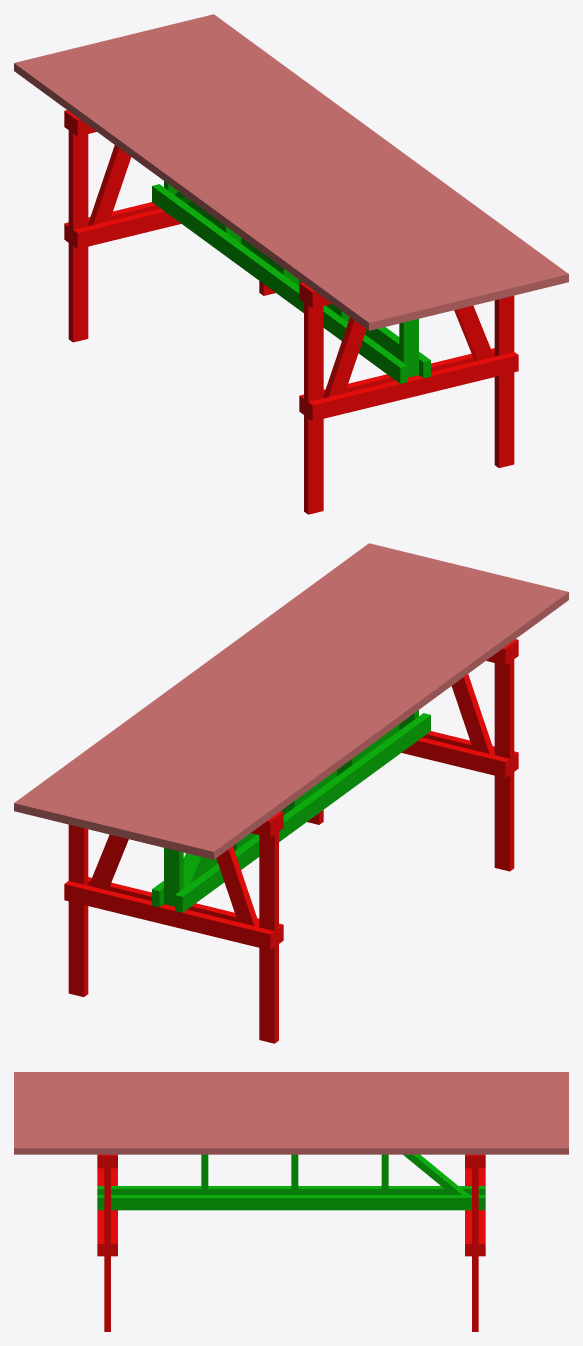
Rendered from result.glb.
3 renders of one model, top to bottom at view 1: azimuth 30°, elevation 25°; view 2: azimuth 150°, elevation 25°; view 3: azimuth 270°, elevation 25°, orthographic. The views are drawn at different scales.
Visible parts, largest first — view 1: 8f120b5a-f9a2-43f8-8b7d-5e371aa95515__Box, 9fdaca5e-407c-4eb3-a409-1f471c80f795__undefined, 4f1c667c-f6a0-4627-bff0-5d3b5f42dd8e__undefined, c62a0de4-39a7-44fe-b908-81d617d3bedd__undefined, 28ee4a3d-c150-4281-99b5-ff1f1e0439e0__undefined, 60b5904a-6647-4e2f-bc2d-0631726d35ae__undefined, bd488927-f666-49eb-b73c-2cdc094b9c27__undefined, 23a740b9-bbf8-4d6e-b039-9ae7f1b5a909__undefined, f3dbb77b-8312-4c1d-bff9-16775a4979df__undefined, b9d5aa15-2974-4691-b75c-6cac990ae6ff__undefined, d9c84791-e65c-49e0-94d9-1fda64fde9dd__undefined, 1f2c1494-39af-4727-8d16-2155dbb9b5cf__undefined (+13 smaller); view 2: 8f120b5a-f9a2-43f8-8b7d-5e371aa95515__Box, 9fdaca5e-407c-4eb3-a409-1f471c80f795__undefined, 4f1c667c-f6a0-4627-bff0-5d3b5f42dd8e__undefined, c62a0de4-39a7-44fe-b908-81d617d3bedd__undefined, 28ee4a3d-c150-4281-99b5-ff1f1e0439e0__undefined, 60b5904a-6647-4e2f-bc2d-0631726d35ae__undefined, bd488927-f666-49eb-b73c-2cdc094b9c27__undefined, 23a740b9-bbf8-4d6e-b039-9ae7f1b5a909__undefined, f3dbb77b-8312-4c1d-bff9-16775a4979df__undefined, b9d5aa15-2974-4691-b75c-6cac990ae6ff__undefined, d9c84791-e65c-49e0-94d9-1fda64fde9dd__undefined, 1f2c1494-39af-4727-8d16-2155dbb9b5cf__undefined (+13 smaller); view 3: b9d5aa15-2974-4691-b75c-6cac990ae6ff__undefined, 534da32e-5892-4000-bd9c-4815f4929568__strutH, 60b5904a-6647-4e2f-bc2d-0631726d35ae__undefined, 4f1c667c-f6a0-4627-bff0-5d3b5f42dd8e__undefined, d9c84791-e65c-49e0-94d9-1fda64fde9dd__undefined, c62a0de4-39a7-44fe-b908-81d617d3bedd__undefined, 415b5ace-8a6b-46c7-b1d0-3a365fc94b96__undefined, f3dbb77b-8312-4c1d-bff9-16775a4979df__undefined, 8f120b5a-f9a2-43f8-8b7d-5e371aa95515__Box, 9fdaca5e-407c-4eb3-a409-1f471c80f795__undefined, 1f2c1494-39af-4727-8d16-2155dbb9b5cf__undefined, bd488927-f666-49eb-b73c-2cdc094b9c27__undefined (+10 smaller).
Boxes of the visible parts, bbox=[...] form: 8f120b5a-f9a2-43f8-8b7d-5e371aa95515__Box: bbox=[14, 59, 384, 330]; 9fdaca5e-407c-4eb3-a409-1f471c80f795__undefined: bbox=[29, 55, 399, 326]; 4f1c667c-f6a0-4627-bff0-5d3b5f42dd8e__undefined: bbox=[76, 44, 445, 315]; c62a0de4-39a7-44fe-b908-81d617d3bedd__undefined: bbox=[106, 37, 476, 308]; 28ee4a3d-c150-4281-99b5-ff1f1e0439e0__undefined: bbox=[152, 25, 522, 296]; 60b5904a-6647-4e2f-bc2d-0631726d35ae__undefined: bbox=[60, 48, 430, 319]; bd488927-f666-49eb-b73c-2cdc094b9c27__undefined: bbox=[122, 33, 491, 304]; 23a740b9-bbf8-4d6e-b039-9ae7f1b5a909__undefined: bbox=[137, 29, 507, 300]; f3dbb77b-8312-4c1d-bff9-16775a4979df__undefined: bbox=[183, 18, 553, 289]; b9d5aa15-2974-4691-b75c-6cac990ae6ff__undefined: bbox=[199, 14, 568, 285]; d9c84791-e65c-49e0-94d9-1fda64fde9dd__undefined: bbox=[91, 40, 461, 311]; 1f2c1494-39af-4727-8d16-2155dbb9b5cf__undefined: bbox=[45, 52, 415, 323]; 8f120b5a-f9a2-43f8-8b7d-5e371aa95515__Box: bbox=[198, 588, 568, 859]; 9fdaca5e-407c-4eb3-a409-1f471c80f795__undefined: bbox=[183, 584, 553, 855]; 4f1c667c-f6a0-4627-bff0-5d3b5f42dd8e__undefined: bbox=[137, 573, 506, 844]; c62a0de4-39a7-44fe-b908-81d617d3bedd__undefined: bbox=[106, 566, 476, 837]; 28ee4a3d-c150-4281-99b5-ff1f1e0439e0__undefined: bbox=[60, 554, 430, 825]; 60b5904a-6647-4e2f-bc2d-0631726d35ae__undefined: bbox=[152, 577, 522, 848]; bd488927-f666-49eb-b73c-2cdc094b9c27__undefined: bbox=[91, 562, 460, 833]; 23a740b9-bbf8-4d6e-b039-9ae7f1b5a909__undefined: bbox=[75, 558, 445, 829]; f3dbb77b-8312-4c1d-bff9-16775a4979df__undefined: bbox=[29, 547, 399, 818]; b9d5aa15-2974-4691-b75c-6cac990ae6ff__undefined: bbox=[14, 543, 383, 814]; d9c84791-e65c-49e0-94d9-1fda64fde9dd__undefined: bbox=[121, 569, 491, 840]; 1f2c1494-39af-4727-8d16-2155dbb9b5cf__undefined: bbox=[167, 581, 537, 852]; b9d5aa15-2974-4691-b75c-6cac990ae6ff__undefined: bbox=[14, 1142, 568, 1154]; 534da32e-5892-4000-bd9c-4815f4929568__strutH: bbox=[97, 1195, 485, 1210]; 60b5904a-6647-4e2f-bc2d-0631726d35ae__undefined: bbox=[14, 1089, 568, 1095]; 4f1c667c-f6a0-4627-bff0-5d3b5f42dd8e__undefined: bbox=[14, 1095, 568, 1101]; d9c84791-e65c-49e0-94d9-1fda64fde9dd__undefined: bbox=[14, 1101, 568, 1107]; c62a0de4-39a7-44fe-b908-81d617d3bedd__undefined: bbox=[14, 1107, 568, 1113]; 415b5ace-8a6b-46c7-b1d0-3a365fc94b96__undefined: bbox=[14, 1130, 568, 1136]; f3dbb77b-8312-4c1d-bff9-16775a4979df__undefined: bbox=[14, 1136, 568, 1142]; 8f120b5a-f9a2-43f8-8b7d-5e371aa95515__Box: bbox=[14, 1072, 568, 1077]; 9fdaca5e-407c-4eb3-a409-1f471c80f795__undefined: bbox=[14, 1078, 568, 1083]; 1f2c1494-39af-4727-8d16-2155dbb9b5cf__undefined: bbox=[14, 1084, 568, 1089]; bd488927-f666-49eb-b73c-2cdc094b9c27__undefined: bbox=[14, 1113, 568, 1118].
Size of the model in its own units: 670 by 725 by 2000.
